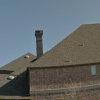Chimney: (26, 24, 58, 68)
